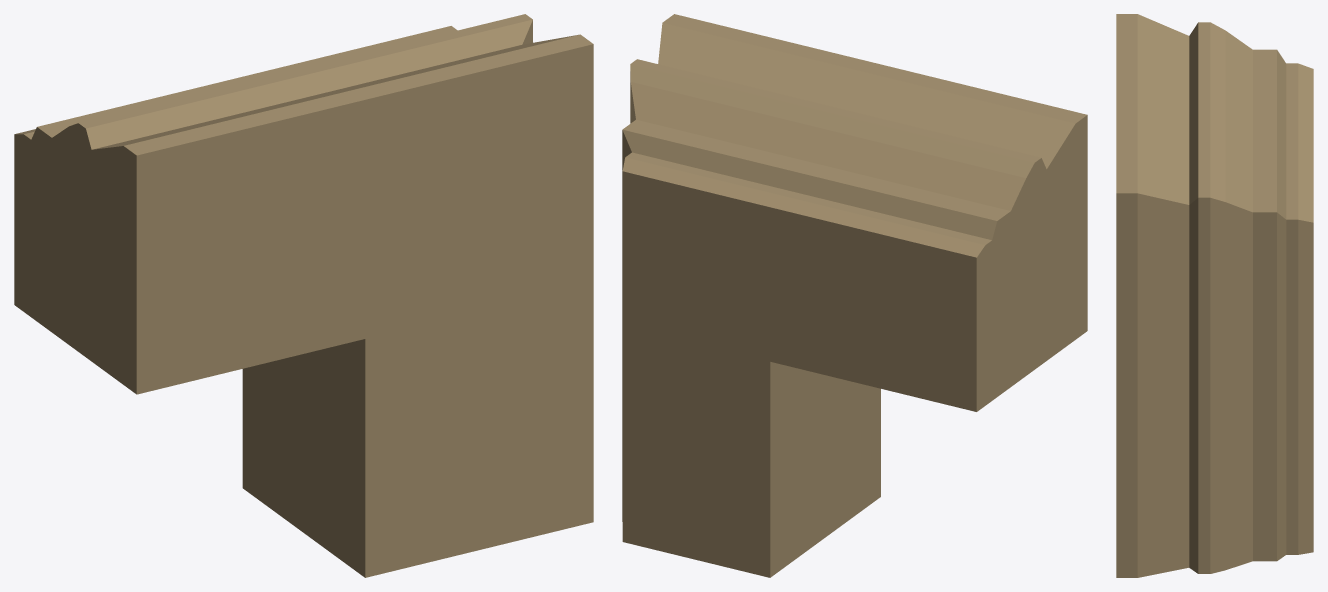
Rendered from T07_Cornice_Corner.obj.
3 renders of one model, left to right at view 1: azimuth 30°, elevation 25°; view 2: azimuth 150°, elevation 25°; view 3: azimuth 270°, elevation 25°, orthographic. The views are drawn at different scales.
Visible parts, largest first — view 1: T07_Cornice_Corner; view 2: T07_Cornice_Corner; view 3: T07_Cornice_Corner.
Part boxes in pixels (x1,y1,x2,y2): T07_Cornice_Corner: (14, 14, 593, 577); T07_Cornice_Corner: (622, 14, 1087, 577); T07_Cornice_Corner: (1116, 14, 1313, 577).
Bounding box in the file's own units: 1.4 × 1.4 × 0.65.
